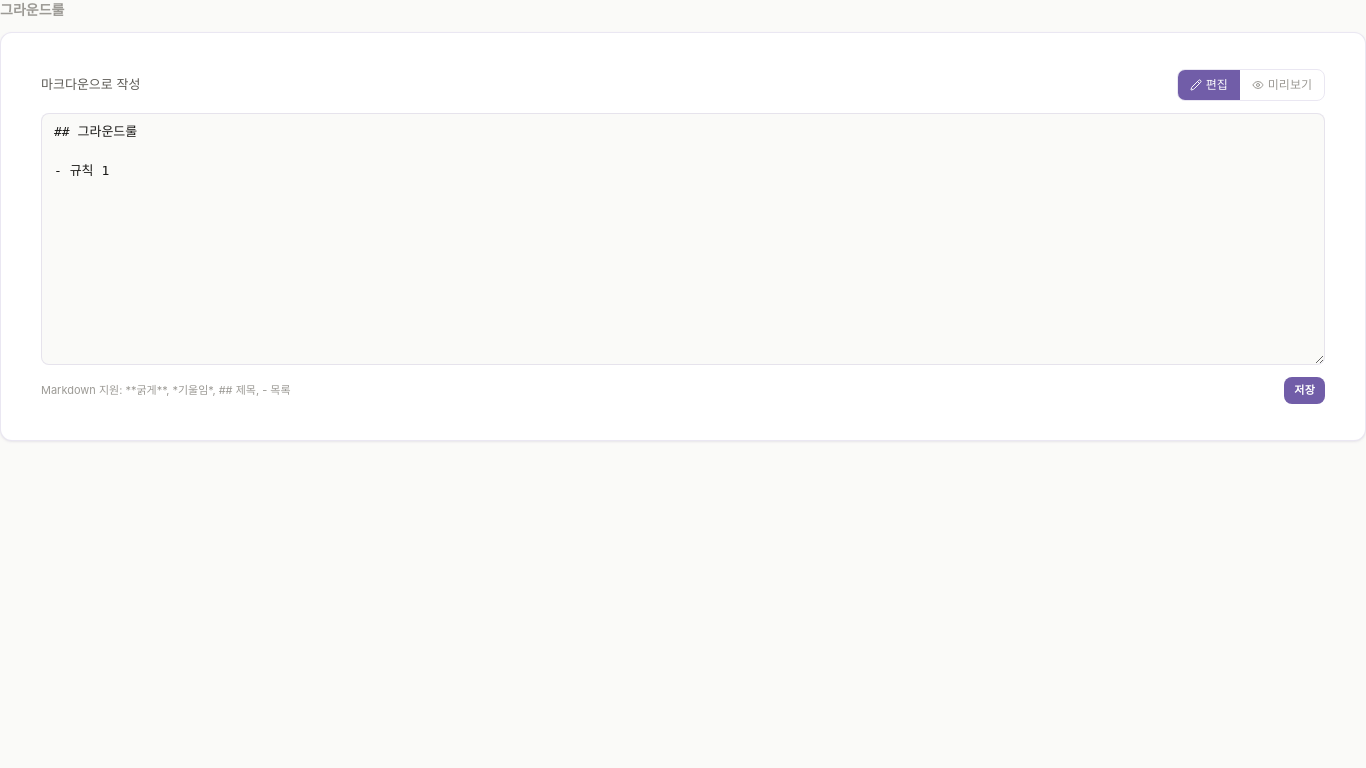
Test case: RulesSection › 저장 버튼 클릭 시 확인 모달이 표시된다
Click the button "저장". click: point(1305, 390)
box: [1284,377,1325,404]
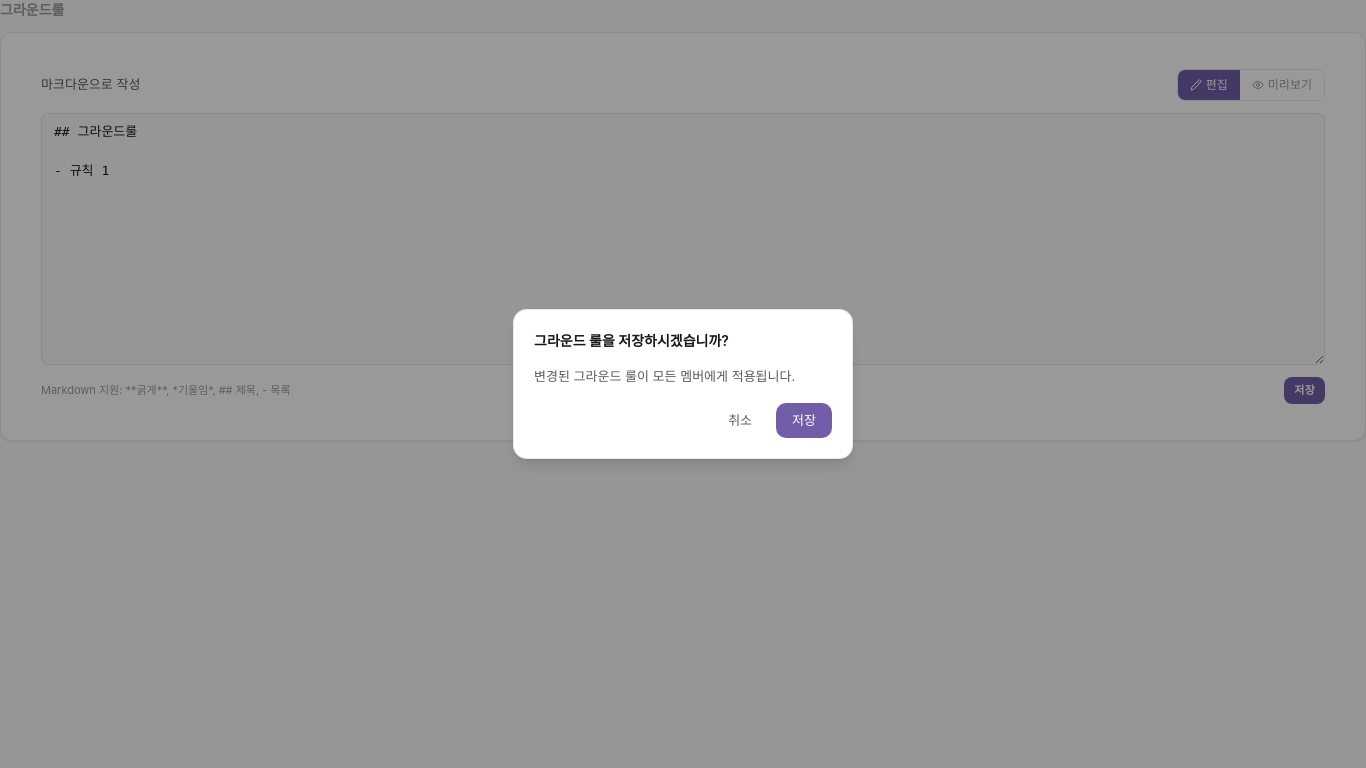
expect the dialog is shown: met
